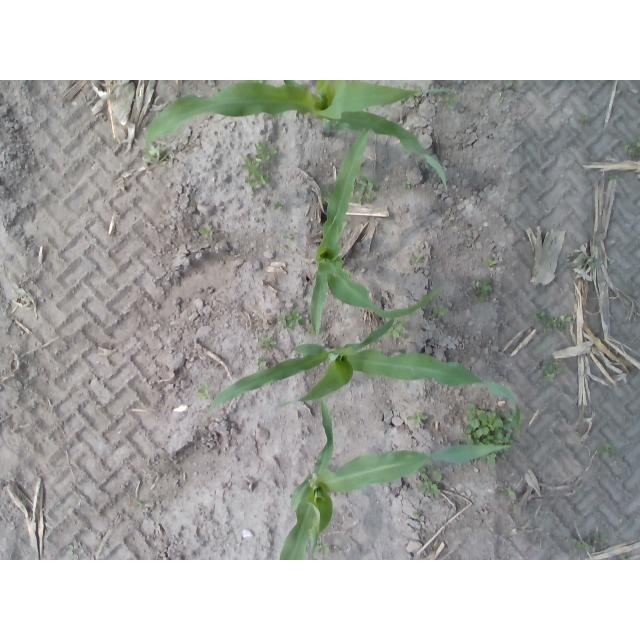Maize: (210, 320, 523, 441), (278, 402, 510, 560), (144, 80, 451, 193), (309, 117, 439, 338)
Weeds: (460, 402, 516, 467), (241, 142, 277, 195), (533, 311, 573, 334), (350, 175, 380, 204), (417, 465, 443, 496), (572, 533, 605, 552), (540, 358, 565, 383), (279, 310, 305, 331), (145, 146, 168, 167), (382, 319, 407, 338), (475, 278, 492, 303), (599, 443, 622, 460), (441, 93, 459, 112), (623, 140, 640, 160), (407, 410, 428, 426), (497, 81, 512, 101), (579, 255, 599, 270), (396, 93, 422, 104), (258, 336, 275, 352), (433, 303, 448, 317), (198, 382, 209, 401), (282, 230, 295, 246), (318, 540, 331, 556), (320, 185, 332, 202), (501, 486, 515, 498), (409, 255, 423, 266), (199, 227, 213, 238), (483, 259, 497, 267), (273, 200, 284, 210), (582, 113, 591, 123), (258, 356, 267, 365), (244, 80, 264, 84), (401, 180, 411, 188), (618, 554, 629, 560), (309, 326, 316, 335), (413, 512, 421, 519), (137, 501, 144, 507)
